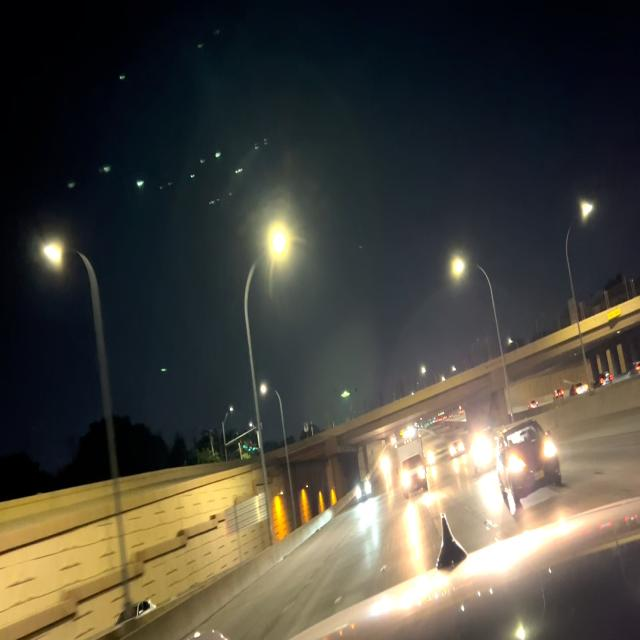back-of-sign: (224, 492, 268, 538)
